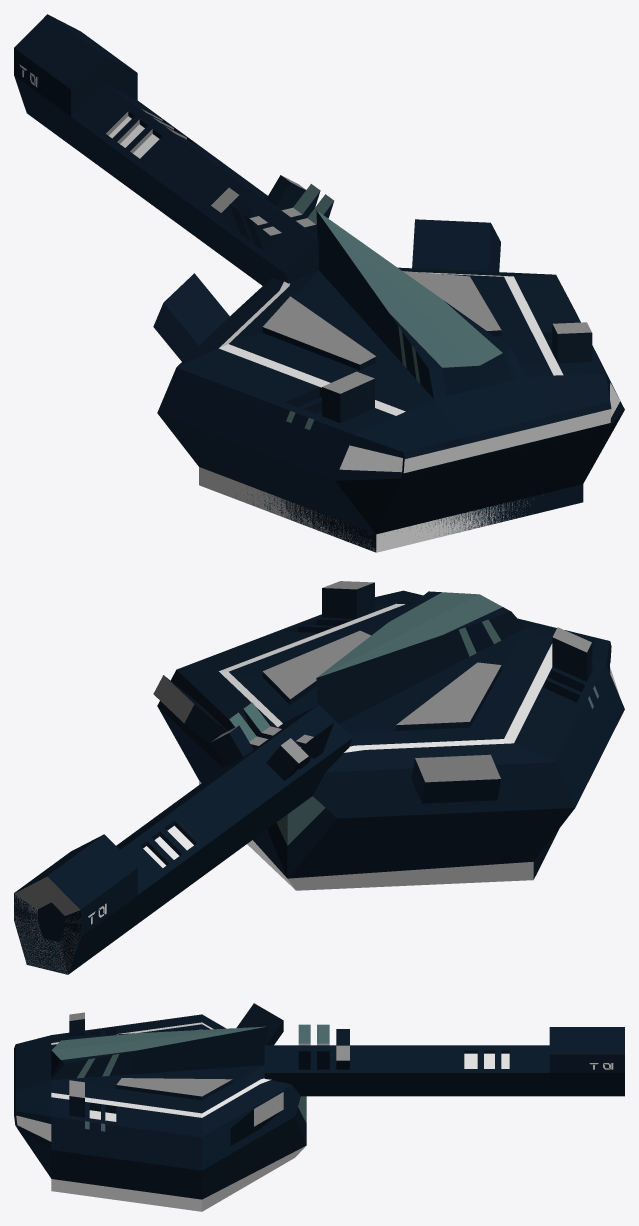
File: Main_Charectar_Turret_V3.fbx
3 views of the same model, one above another, from view 1: azimuth 30°, elevation 25°; view 2: azimuth 150°, elevation 25°; view 3: azimuth 270°, elevation 25° (orthographic). The views are drawn at different scales.
Visible parts, largest first — view 1: Rail Gun; view 2: Rail Gun; view 3: Rail Gun.
Part boxes in pixels (x1,y1,x2,y2): Rail Gun: (14,14,624,552); Rail Gun: (14,581,624,974); Rail Gun: (14,1003,624,1211).
Bounding box in the file's own units: 594 × 268 × 1133.
